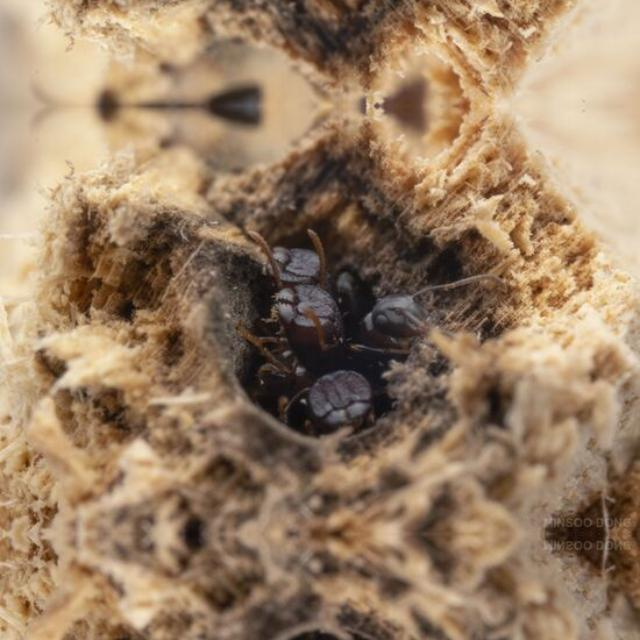Colobopsis: (279, 350, 387, 450), (344, 268, 446, 372), (261, 273, 359, 372), (252, 230, 336, 288), (279, 616, 387, 640)
